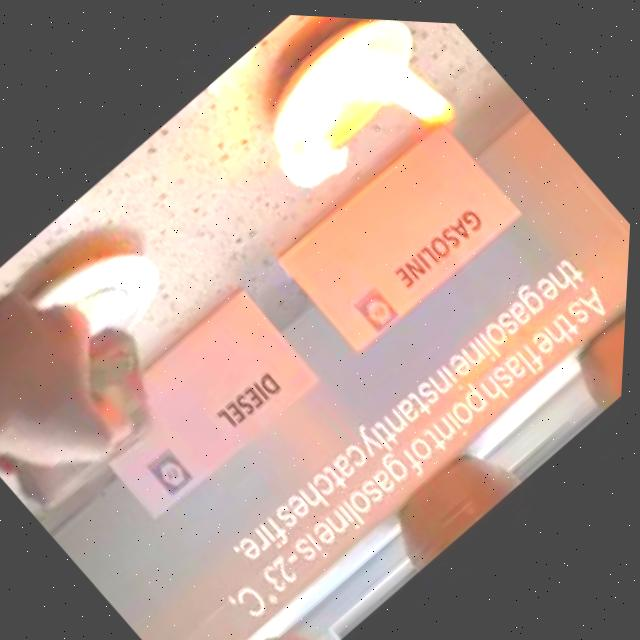Fire: (243, 10, 472, 227)
